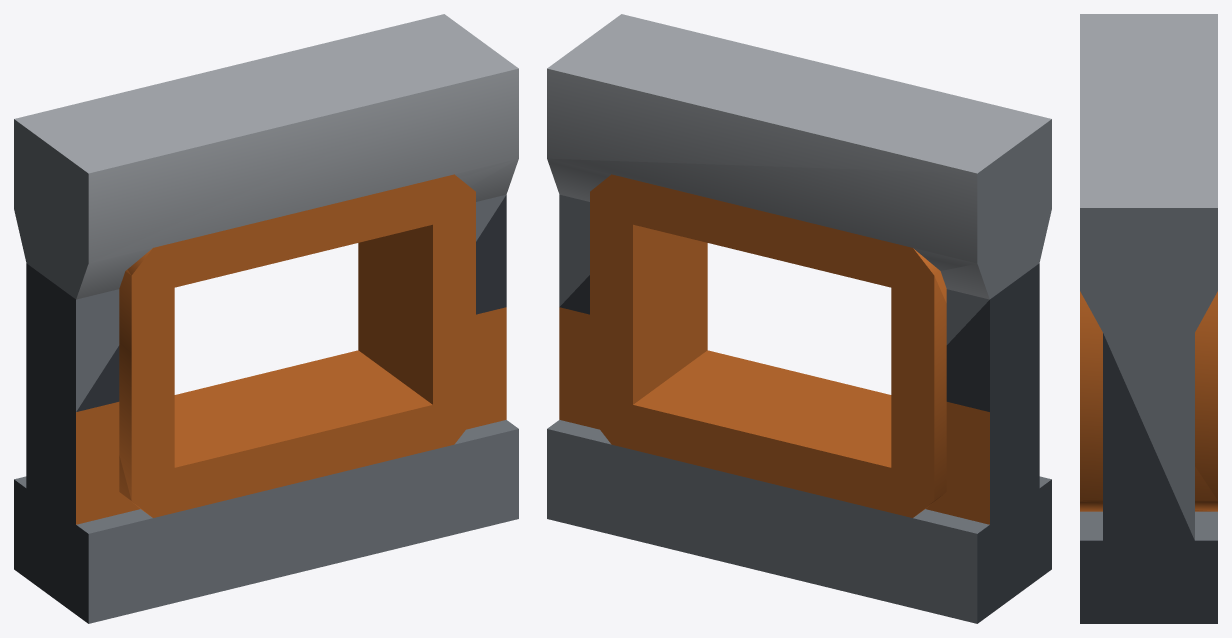
Rendered from Kit_wall-window-banner.fbx.
3 renders of one model, left to right at view 1: azimuth 30°, elevation 25°; view 2: azimuth 150°, elevation 25°; view 3: azimuth 270°, elevation 25°, orthographic. The views are drawn at different scales.
Parts seen in each view (by area): view 1: Kit_wall-window-banner; view 2: Kit_wall-window-banner; view 3: Kit_wall-window-banner.
Part boxes in pixels (x1,y1,x2,y2): Kit_wall-window-banner: [14, 14, 518, 623]; Kit_wall-window-banner: [547, 14, 1051, 623]; Kit_wall-window-banner: [1080, 14, 1217, 623].
Bounding box in the file's own units: 1 × 1 × 0.3.
